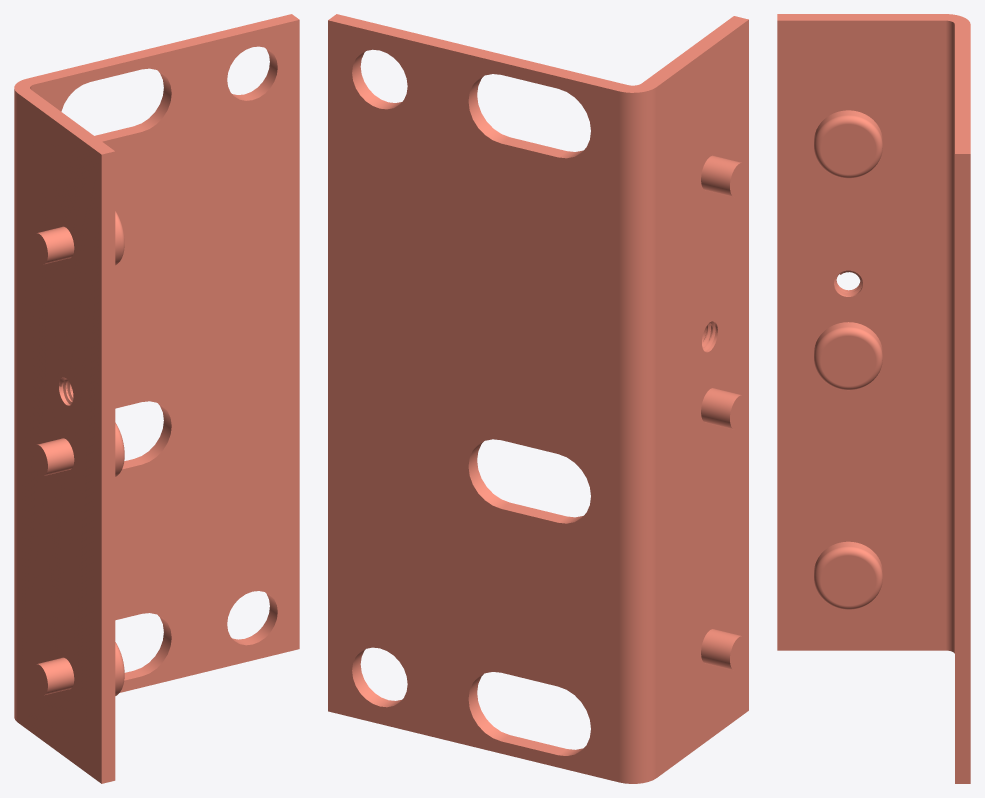
The model's file is MENSULA.glb.
The picture shows the model from 3 angles, left to right: view 1: azimuth 30°, elevation 25°; view 2: azimuth 150°, elevation 25°; view 3: azimuth 270°, elevation 25°; orthographic projection. The views are drawn at different scales.
Parts seen in each view (by area): view 1: (RL0072) CUERPO MENSULA GOTA CARGA LIGERA DERECHA-1, (MPR0784) REMACHE TIPO GOTA C14-2, (MPR0784) REMACHE TIPO GOTA C14-1, (MPR0784) REMACHE TIPO GOTA C14-3; view 2: (RL0072) CUERPO MENSULA GOTA CARGA LIGERA DERECHA-1, (MPR0784) REMACHE TIPO GOTA C14-1, (MPR0784) REMACHE TIPO GOTA C14-2, (MPR0784) REMACHE TIPO GOTA C14-3; view 3: (RL0072) CUERPO MENSULA GOTA CARGA LIGERA DERECHA-1, (MPR0784) REMACHE TIPO GOTA C14-1, (MPR0784) REMACHE TIPO GOTA C14-3, (MPR0784) REMACHE TIPO GOTA C14-2.
Boxes of the visible parts, x1,y1,x2,y2 form: (RL0072) CUERPO MENSULA GOTA CARGA LIGERA DERECHA-1: (14, 14, 299, 783); (MPR0784) REMACHE TIPO GOTA C14-2: (32, 422, 124, 476); (MPR0784) REMACHE TIPO GOTA C14-1: (32, 211, 124, 265); (MPR0784) REMACHE TIPO GOTA C14-3: (32, 642, 124, 695); (RL0072) CUERPO MENSULA GOTA CARGA LIGERA DERECHA-1: (328, 14, 748, 783); (MPR0784) REMACHE TIPO GOTA C14-1: (701, 155, 747, 197); (MPR0784) REMACHE TIPO GOTA C14-2: (701, 388, 747, 429); (MPR0784) REMACHE TIPO GOTA C14-3: (701, 629, 747, 670); (RL0072) CUERPO MENSULA GOTA CARGA LIGERA DERECHA-1: (777, 14, 970, 783); (MPR0784) REMACHE TIPO GOTA C14-1: (814, 110, 882, 178); (MPR0784) REMACHE TIPO GOTA C14-3: (814, 541, 882, 609); (MPR0784) REMACHE TIPO GOTA C14-2: (814, 322, 882, 390).
Bounding box in the file's own units: 0.0786 × 0.151 × 0.042.
